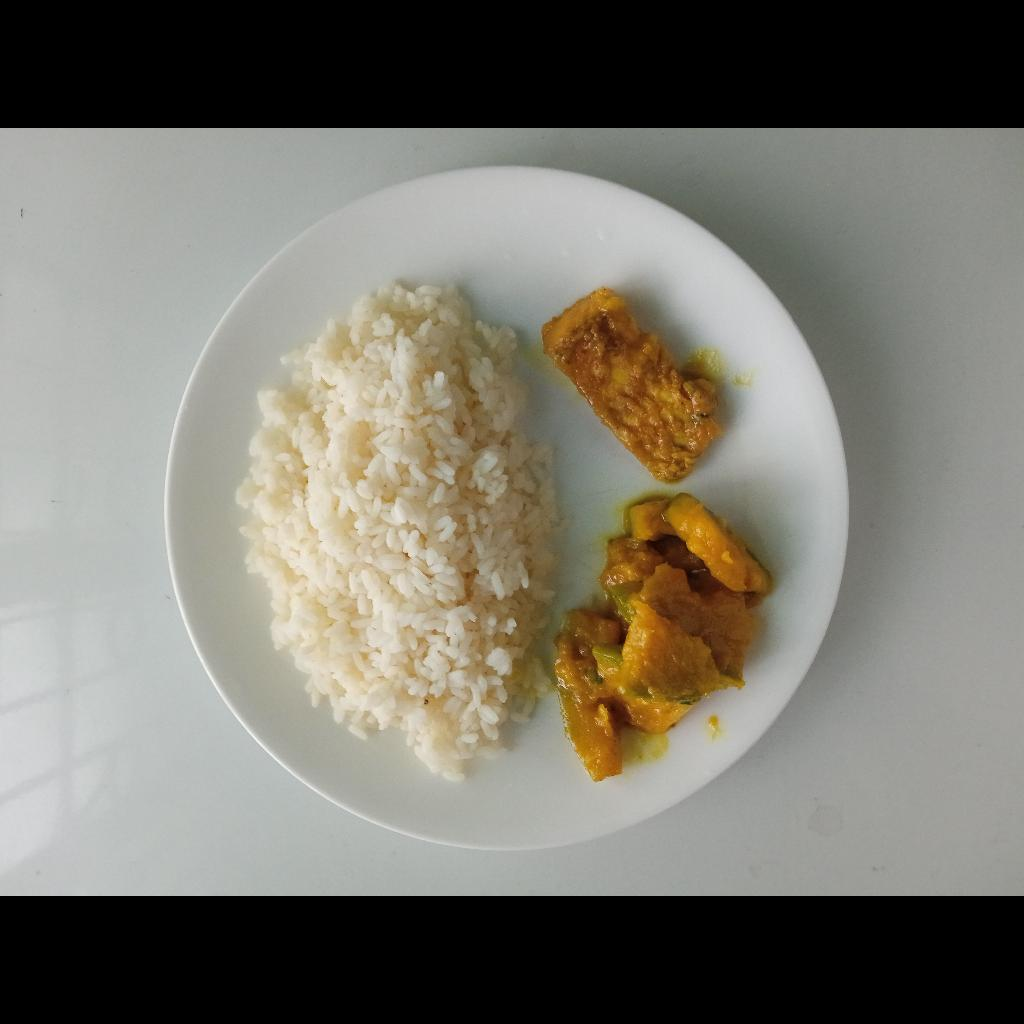fish: (541, 288, 723, 476)
kumra-vaji: (560, 499, 778, 782)
rice: (235, 287, 557, 778)
